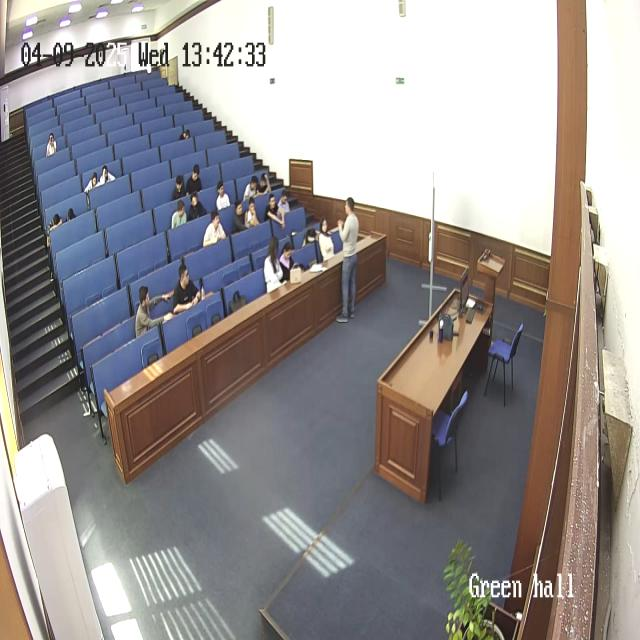person: (336, 197, 361, 319), (135, 286, 173, 339), (172, 264, 201, 315), (263, 236, 286, 294), (203, 209, 226, 247), (317, 219, 335, 261), (278, 240, 296, 279), (186, 191, 206, 222), (266, 193, 286, 224), (46, 216, 64, 249), (170, 198, 187, 228), (186, 164, 203, 194), (216, 182, 232, 212), (244, 174, 260, 204), (276, 190, 292, 220), (233, 201, 247, 235), (176, 122, 195, 144), (244, 202, 260, 228), (172, 175, 188, 200), (97, 165, 115, 187), (258, 172, 272, 196), (84, 171, 99, 193), (46, 132, 58, 156), (66, 207, 78, 224)
